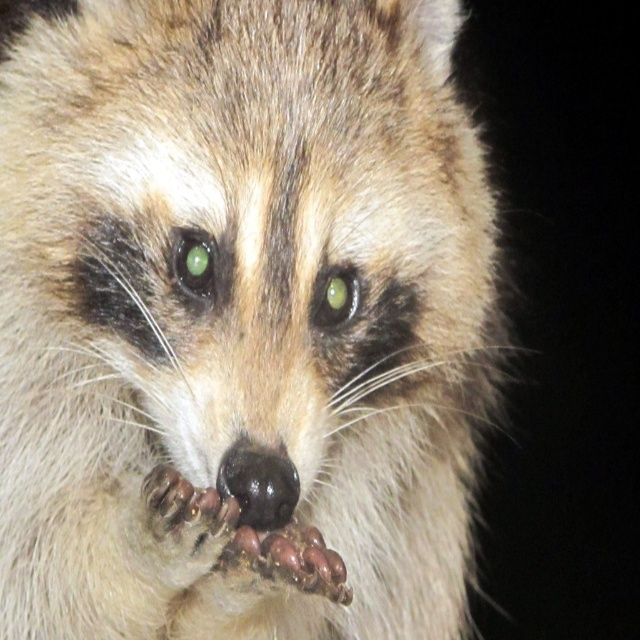Raccoon: (0, 0, 540, 639)
